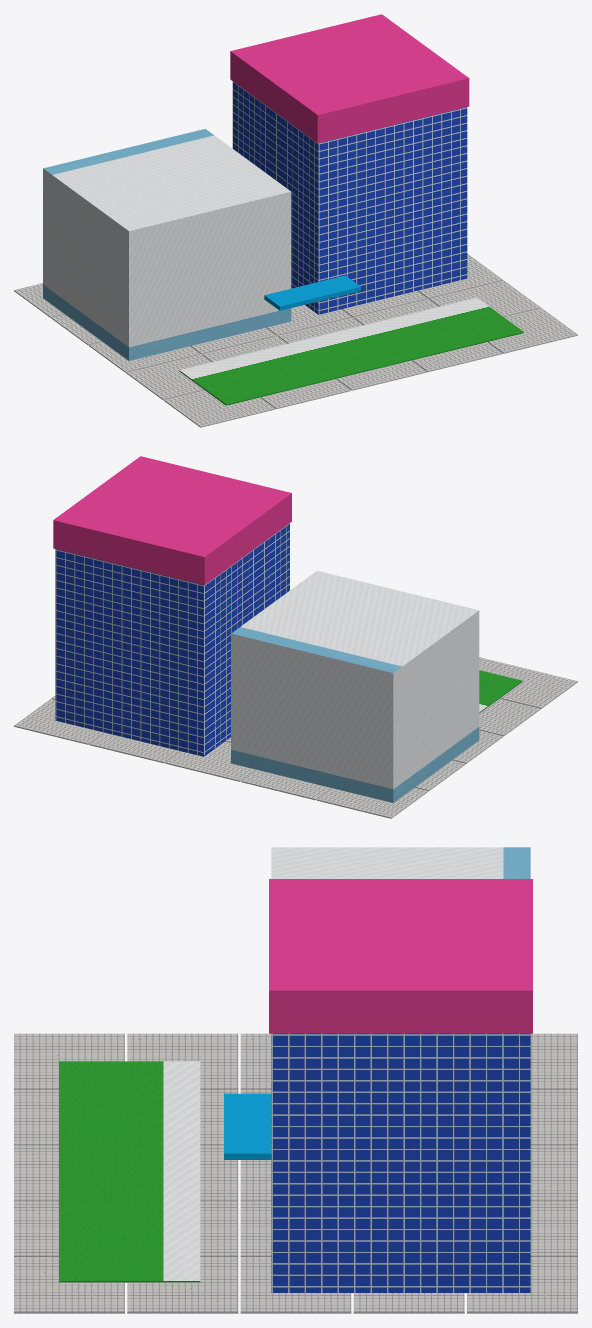
3 views of the same model, one above another, from view 1: azimuth 30°, elevation 25°; view 2: azimuth 150°, elevation 25°; view 3: azimuth 270°, elevation 25° (orthographic). The views are drawn at different scales.
Parts seen in each view (by area): view 1: 28185_B39_Merck_Songdo_Bioprocessing_Center; view 2: 28185_B39_Merck_Songdo_Bioprocessing_Center; view 3: 28185_B39_Merck_Songdo_Bioprocessing_Center.
Part boxes in pixels (left/top/right/bottom): 28185_B39_Merck_Songdo_Bioprocessing_Center: left=14, top=14, right=577, bottom=427; 28185_B39_Merck_Songdo_Bioprocessing_Center: left=14, top=456, right=577, bottom=818; 28185_B39_Merck_Songdo_Bioprocessing_Center: left=14, top=847, right=577, bottom=1313.
Bounding box in the file's own units: 55.8 × 28.5 × 47.8.
Materials: 1 (1 with a texture image).
